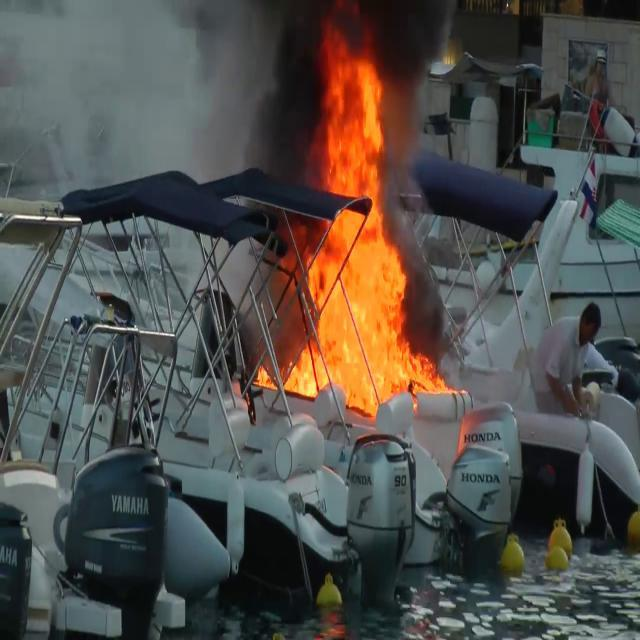Fire: (273, 24, 445, 412)
Smoke: (0, 0, 222, 206)
